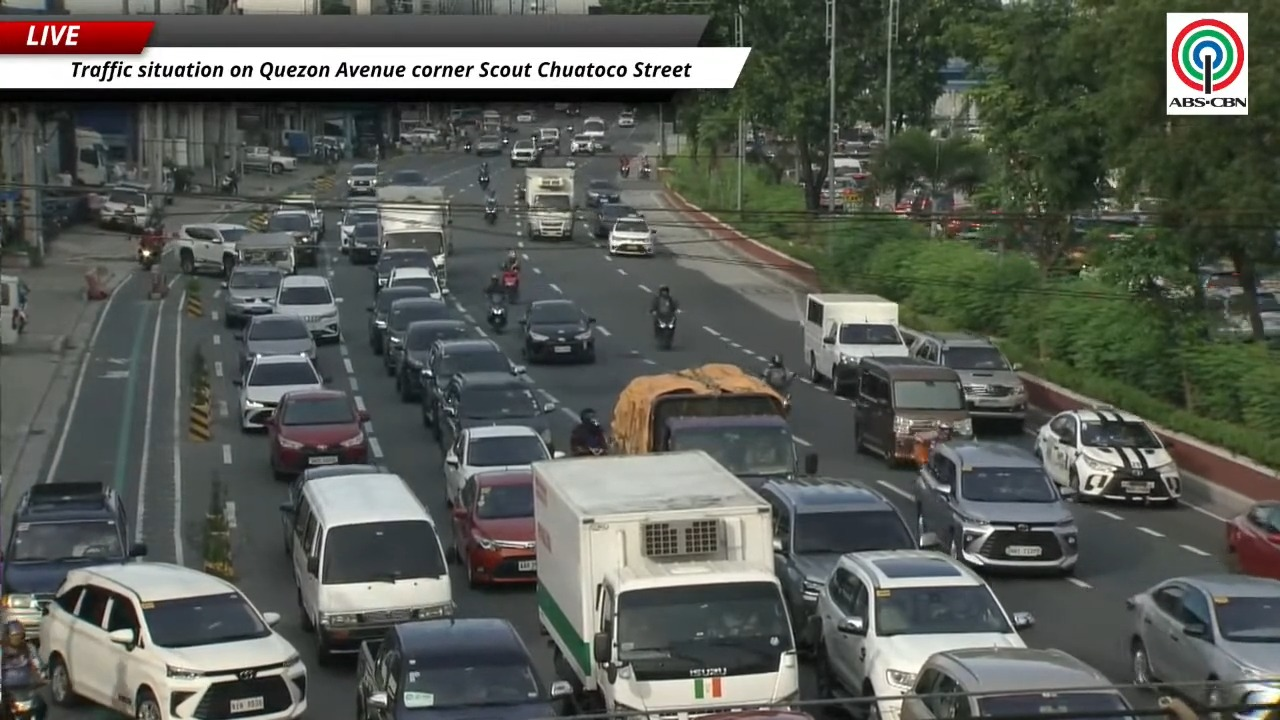car: (40, 562, 306, 719), (815, 550, 1033, 717), (757, 477, 916, 646), (0, 482, 145, 638), (355, 618, 571, 719), (913, 441, 1078, 573), (1126, 574, 1279, 708), (900, 648, 1132, 719), (1034, 407, 1181, 504), (911, 332, 1027, 427), (421, 338, 524, 440), (450, 470, 535, 586), (267, 389, 368, 479), (440, 371, 554, 447), (444, 423, 552, 503), (235, 354, 323, 431), (395, 319, 470, 401), (383, 298, 451, 375), (521, 300, 595, 362), (273, 275, 340, 342), (367, 286, 431, 354), (235, 315, 315, 369), (167, 224, 249, 276), (289, 464, 388, 506), (1226, 501, 1279, 579), (222, 265, 283, 327), (264, 209, 317, 266), (98, 182, 158, 230), (373, 248, 433, 293), (277, 195, 324, 238), (339, 204, 380, 252), (607, 217, 655, 256), (387, 266, 444, 298), (592, 204, 641, 238), (345, 221, 380, 263), (346, 163, 379, 195), (585, 179, 620, 207), (509, 140, 540, 167), (399, 126, 440, 145), (536, 127, 560, 155), (474, 135, 503, 156), (388, 170, 426, 185), (570, 135, 596, 155), (617, 112, 635, 127), (516, 111, 536, 123)
motorcycle: (0, 670, 46, 719), (912, 424, 952, 466), (136, 226, 164, 270), (761, 372, 795, 408), (654, 315, 676, 350), (487, 296, 507, 332), (501, 270, 519, 303), (219, 171, 238, 194), (571, 447, 607, 456), (484, 206, 497, 224), (639, 165, 651, 179), (478, 174, 489, 189), (463, 140, 472, 153), (620, 166, 629, 178), (502, 136, 509, 146)
truck: (532, 451, 798, 716), (609, 363, 817, 487), (803, 293, 908, 393), (377, 185, 452, 287), (524, 168, 575, 241), (73, 127, 111, 186), (241, 147, 297, 174)
